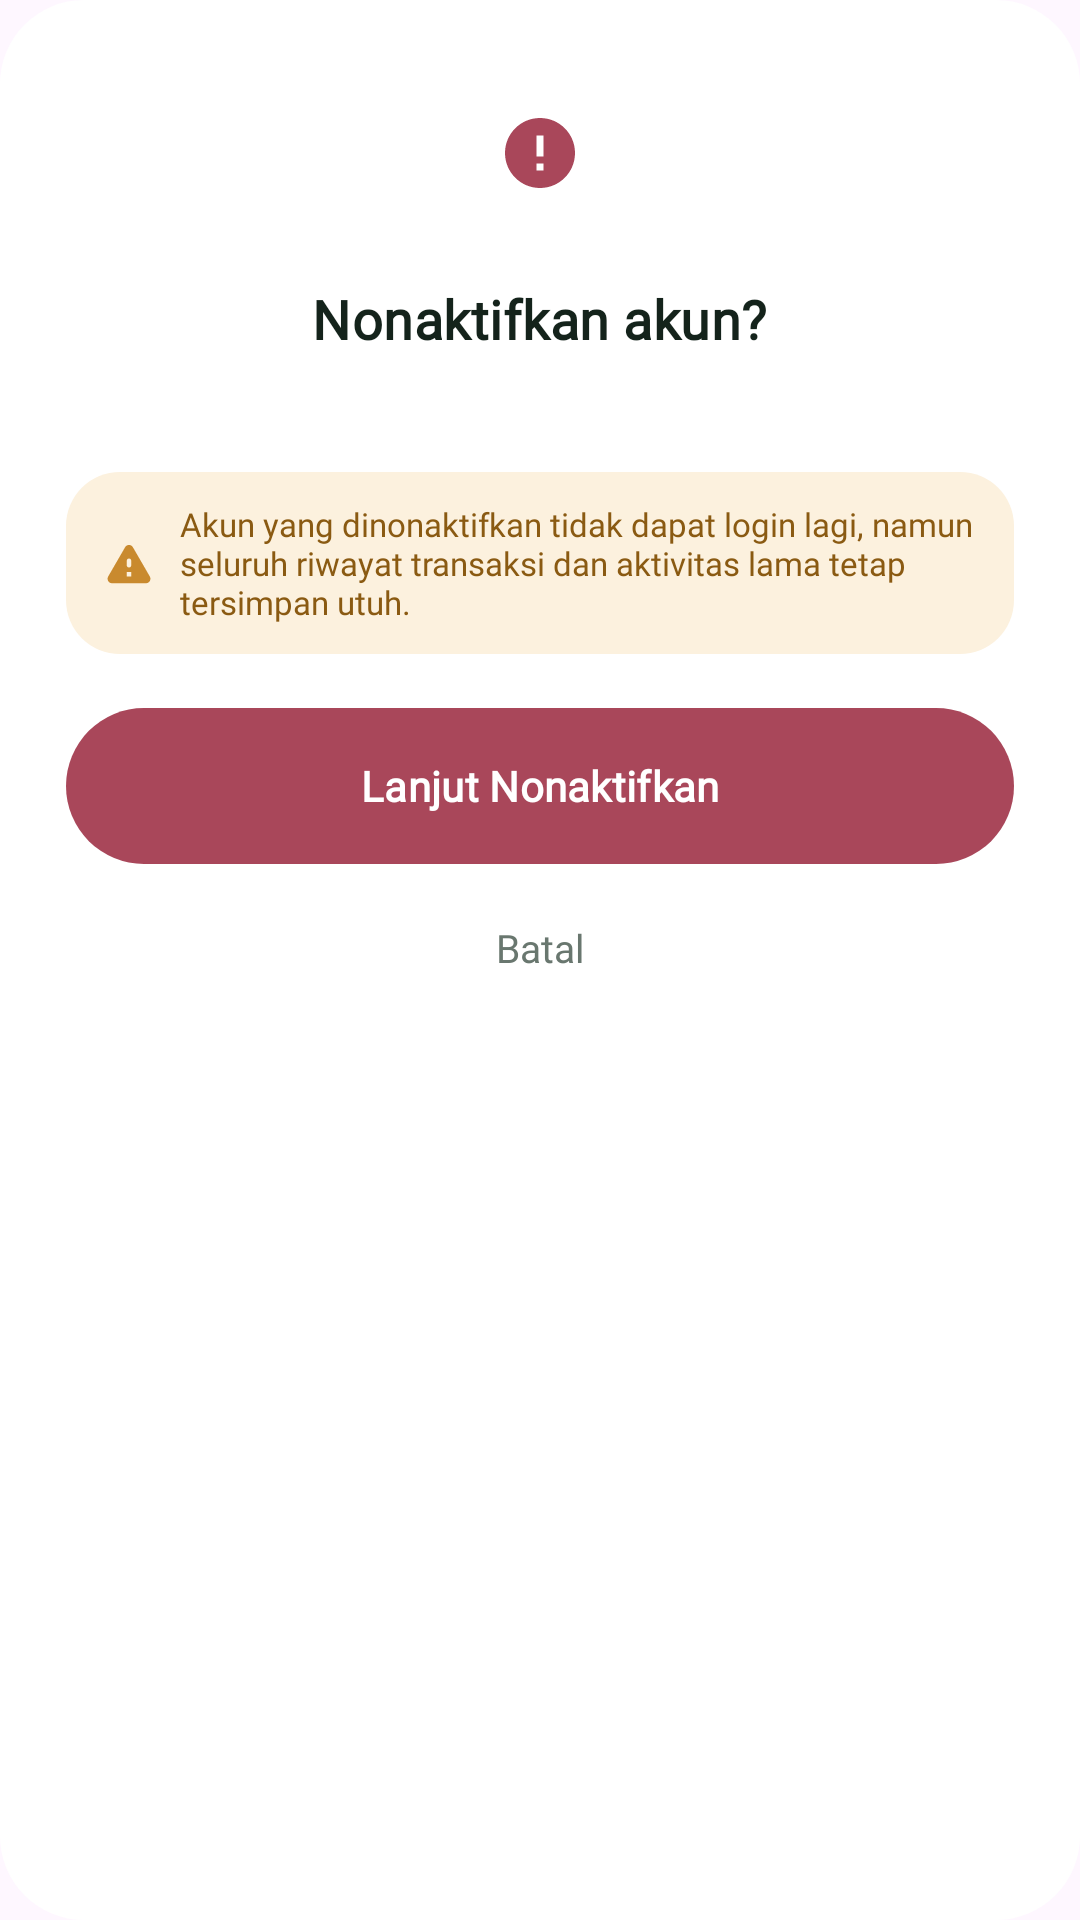

Icon bounding boxes for this 1080px×1920px phone screenshot, format (x1, y1, x2, y2):
error: (505, 118, 575, 188)
warning: (107, 545, 151, 584)
